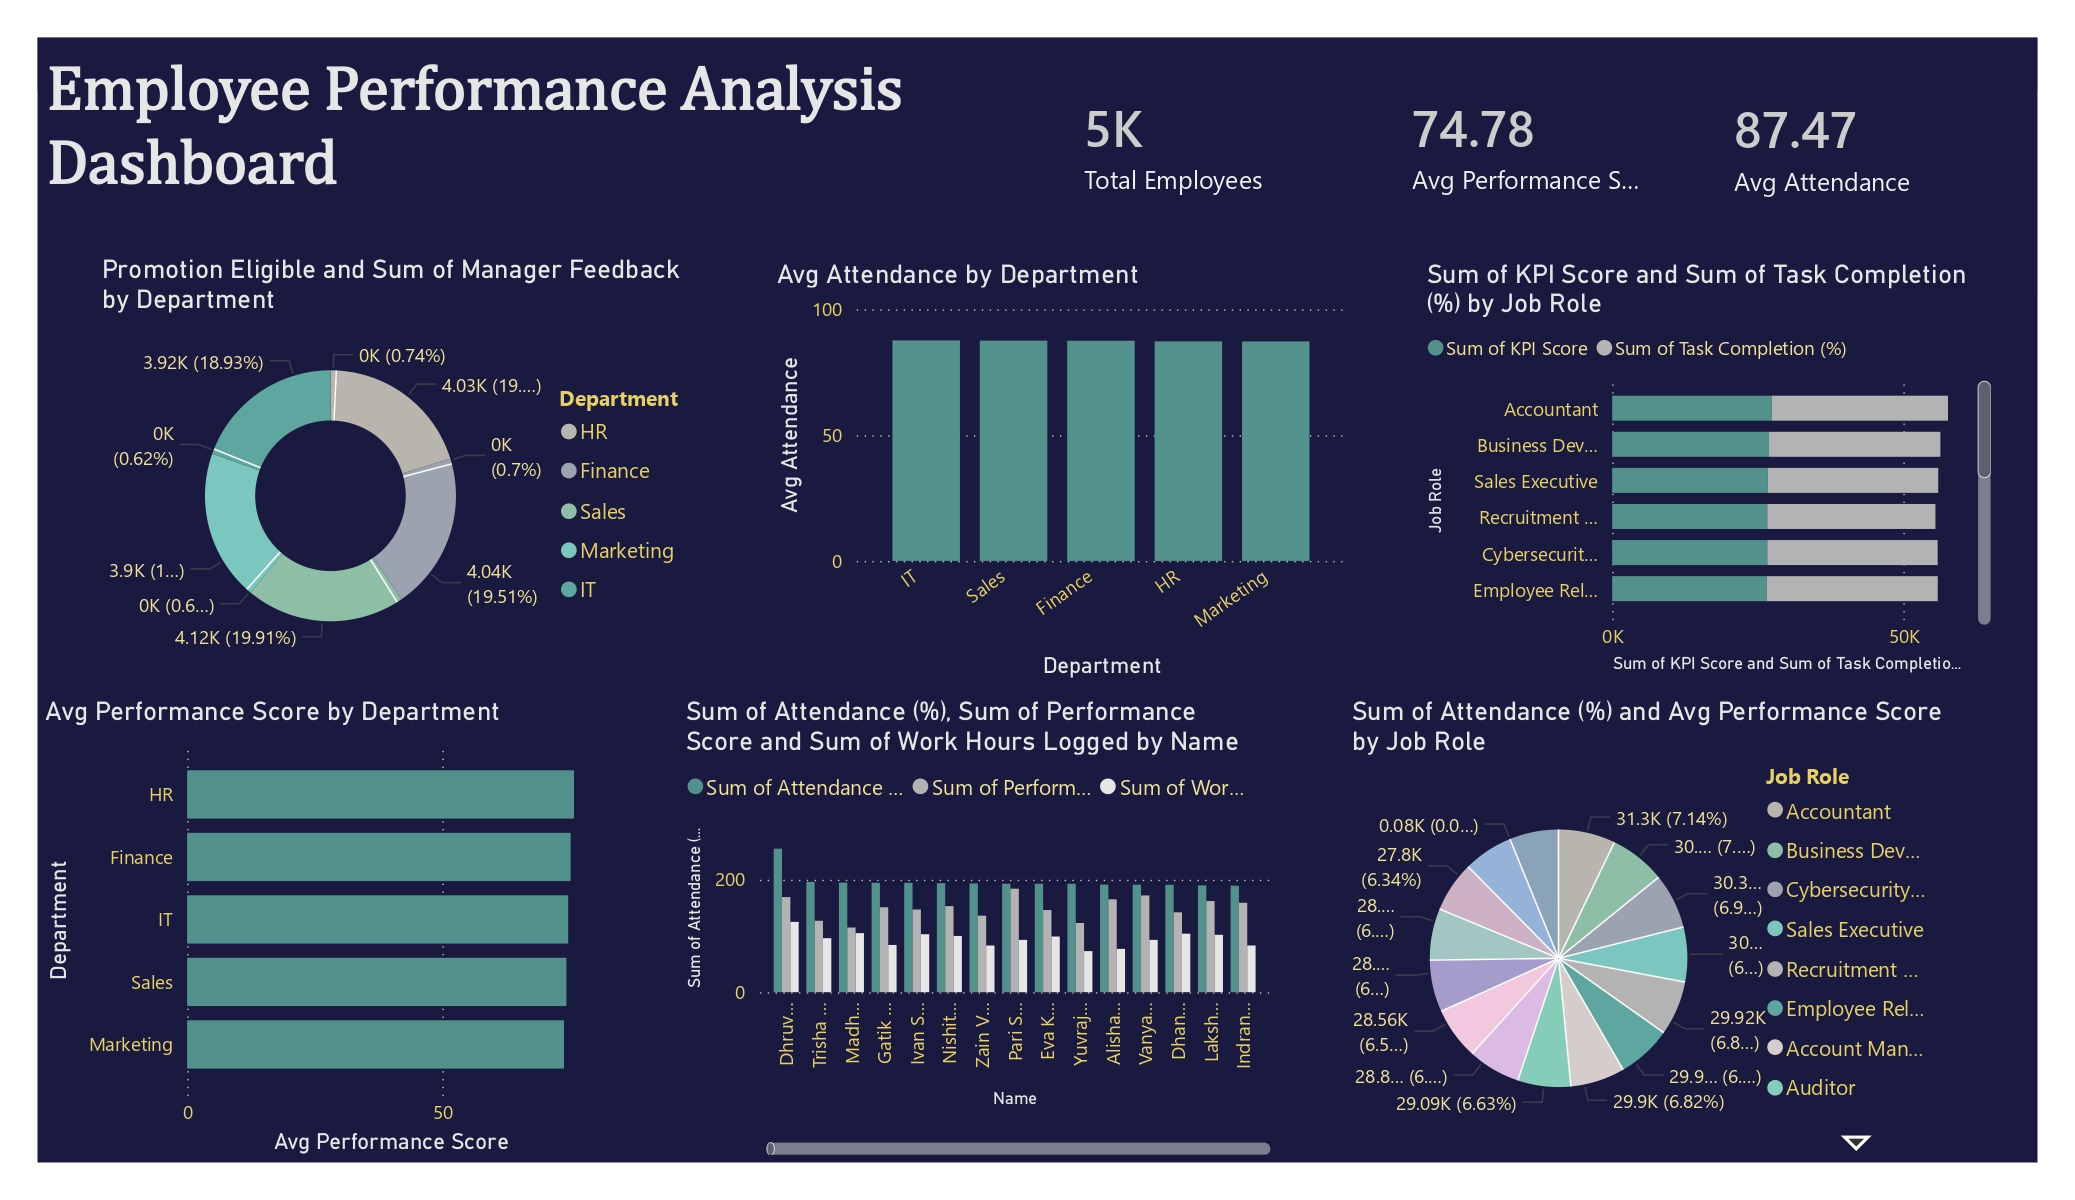

The dashboard page shown, as its layout file describes it:
{"tool":"powerbi","page":{"name":"Page 1","canvas":[1280,720],"ordinal":0},"visuals":[{"type":"cardVisual","fields":{"Data":["Employee_Performance_Dataset.Avg Performance Score"]},"box":[850.5,0,206.3,137.5],"z":0},{"type":"cardVisual","fields":{"Data":["Employee_Performance_Dataset.Avg Attendance"]},"box":[1056.8,1.2,209.9,136.3],"z":1000},{"type":"clusteredBarChart","fields":{"Y":["Employee_Performance_Dataset.Avg Performance Score"],"Category":["Employee_Performance_Dataset.Department"]},"box":[0,421.3,369.1,299.1],"z":2000},{"type":"donutChart","fields":{"Y":["Employee_Performance_Dataset.Promotion Eligible","Sum(Employee_Performance_Dataset.Manager Feedback)"],"Category":["Employee_Performance_Dataset.Department"]},"box":[36.2,137.5,395.7,273.9],"z":3000},{"type":"clusteredColumnChart","fields":{"Category":["Employee_Performance_Dataset.Name"],"Y":["Sum(Employee_Performance_Dataset.Attendance (%))","Sum(Employee_Performance_Dataset.Performance Score)","Sum(Employee_Performance_Dataset.Work Hours Logged)"]},"box":[410.2,421,383.6,299.2],"z":4000},{"type":"lineClusteredColumnComboChart","fields":{"Category":["Employee_Performance_Dataset.Department"],"Y":["Employee_Performance_Dataset.Avg Attendance"]},"box":[468.1,141.2,375.2,273.9],"z":5000},{"type":"barChart","fields":{"Category":["Employee_Performance_Dataset.Job Role"],"Y":["Sum(Employee_Performance_Dataset.KPI Score)","Sum(Employee_Performance_Dataset.Task Completion (%))"]},"box":[884.3,141.2,370.4,273.9],"z":6000},{"type":"pieChart","fields":{"Y":["Sum(Employee_Performance_Dataset.Attendance (%))","Employee_Performance_Dataset.Avg Performance Score"],"Category":["Employee_Performance_Dataset.Job Role"]},"box":[836.1,421,388.5,299.2],"z":7000},{"type":"textbox","title":"Employee Performance Analysis Dashboard","box":[1.2,12.1,639.4,112.2],"z":10000},{"type":"cardVisual","fields":{"Data":["Employee_Performance_Dataset.Total Employees"]},"box":[640.6,0,209.9,137.5],"z":11000}]}

Visuals, with their boxes on the page's 1280x720 design canvas (x1, y1, x2, y2). These are canvas units, not pixel positions in the 2075x1200 screenshot, which may show the page scaled, cropped or inside an application window:
cardVisual - Employee_Performance_Dataset.Avg Performance Score: <bbox>850, 0, 1057, 138</bbox>
cardVisual - Employee_Performance_Dataset.Avg Attendance: <bbox>1057, 1, 1267, 138</bbox>
clusteredBarChart - Employee_Performance_Dataset.Avg Performance Score x Employee_Performance_Dataset.Department: <bbox>0, 421, 369, 720</bbox>
donutChart - Employee_Performance_Dataset.Promotion Eligible x Sum(Employee_Performance_Dataset.Manager Feedback): <bbox>36, 138, 432, 411</bbox>
clusteredColumnChart - Employee_Performance_Dataset.Name x Sum(Employee_Performance_Dataset.Attendance (%)): <bbox>410, 421, 794, 720</bbox>
lineClusteredColumnComboChart - Employee_Performance_Dataset.Department x Employee_Performance_Dataset.Avg Attendance: <bbox>468, 141, 843, 415</bbox>
barChart - Employee_Performance_Dataset.Job Role x Sum(Employee_Performance_Dataset.KPI Score): <bbox>884, 141, 1255, 415</bbox>
pieChart - Sum(Employee_Performance_Dataset.Attendance (%)) x Employee_Performance_Dataset.Avg Performance Score: <bbox>836, 421, 1225, 720</bbox>
"Employee Performance Analysis Dashboard" textbox: <bbox>1, 12, 641, 124</bbox>
cardVisual - Employee_Performance_Dataset.Total Employees: <bbox>641, 0, 850, 138</bbox>
